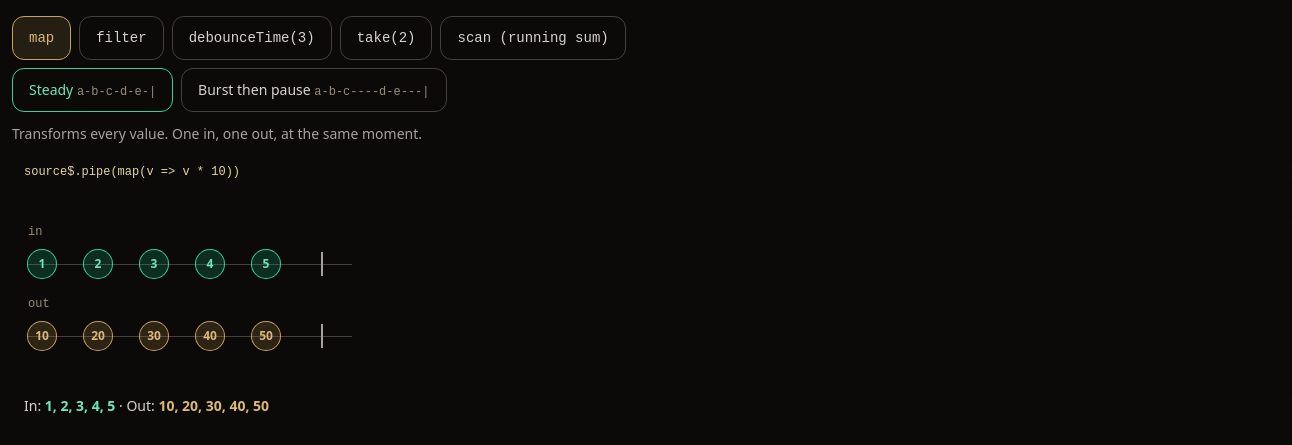
Test: MarbleDemoComponent › shows what debounceTime drops after switching operator and input
Click the button "debounceTime(3)".
click(252, 38)  # box [172,16,332,60]
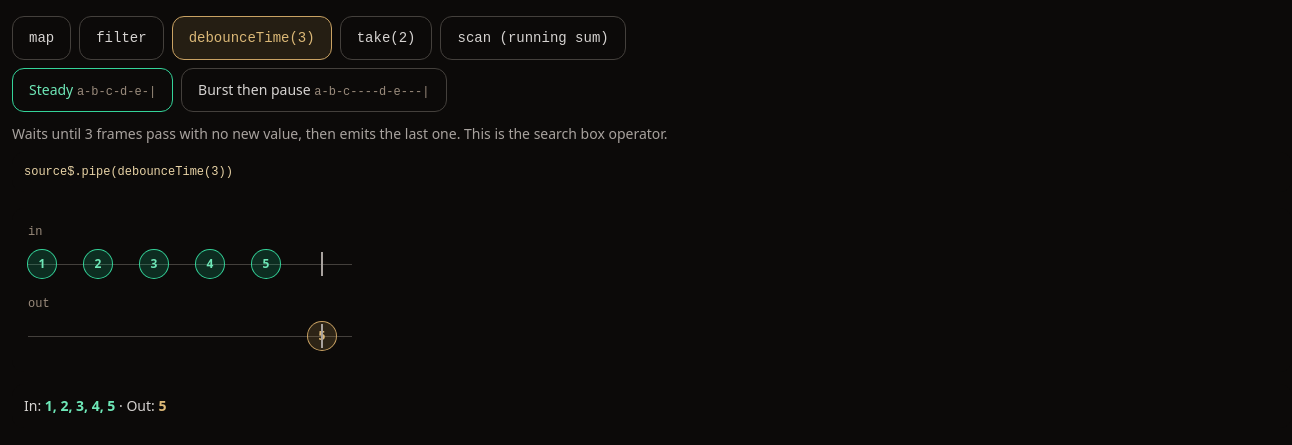
Click the button "Burst then pause a-b-c----d-e---|".
click(314, 90)  # box [181,68,446,112]
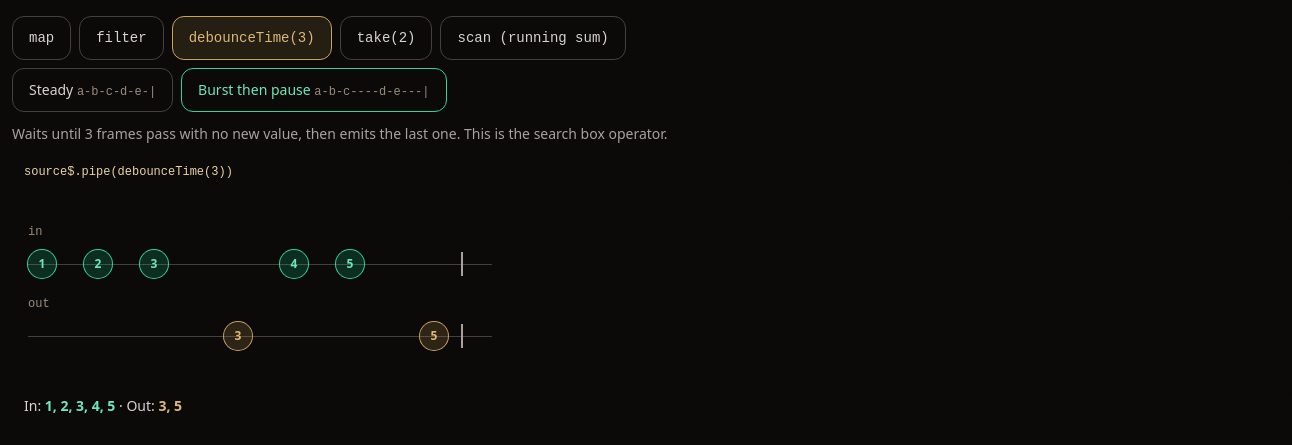
Expected: the element with test id "marble-summary" reads "In: 1, 2, 3, 4, 5 · Out: 3, 5", [12,384,1291,428]
